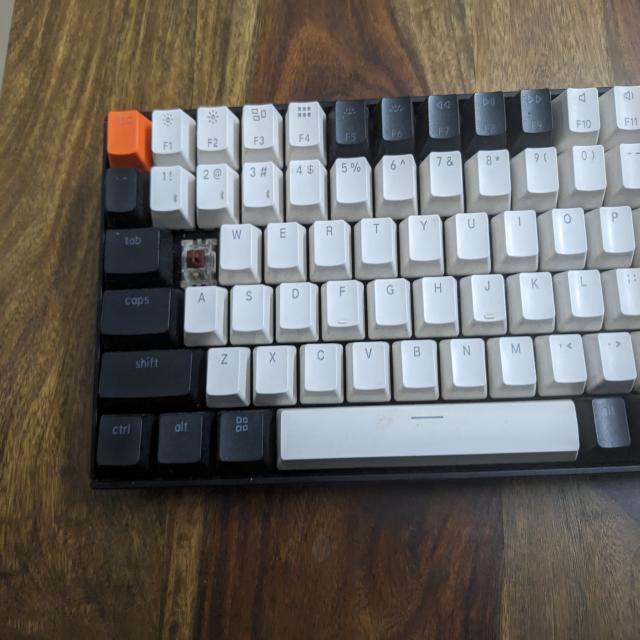key-switch: (180, 236, 217, 278)
